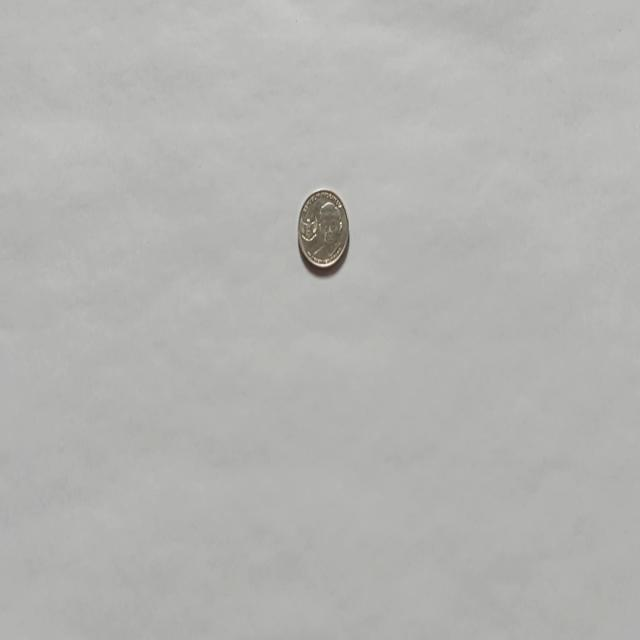seribu rupiah koin: (296, 186, 349, 272)
